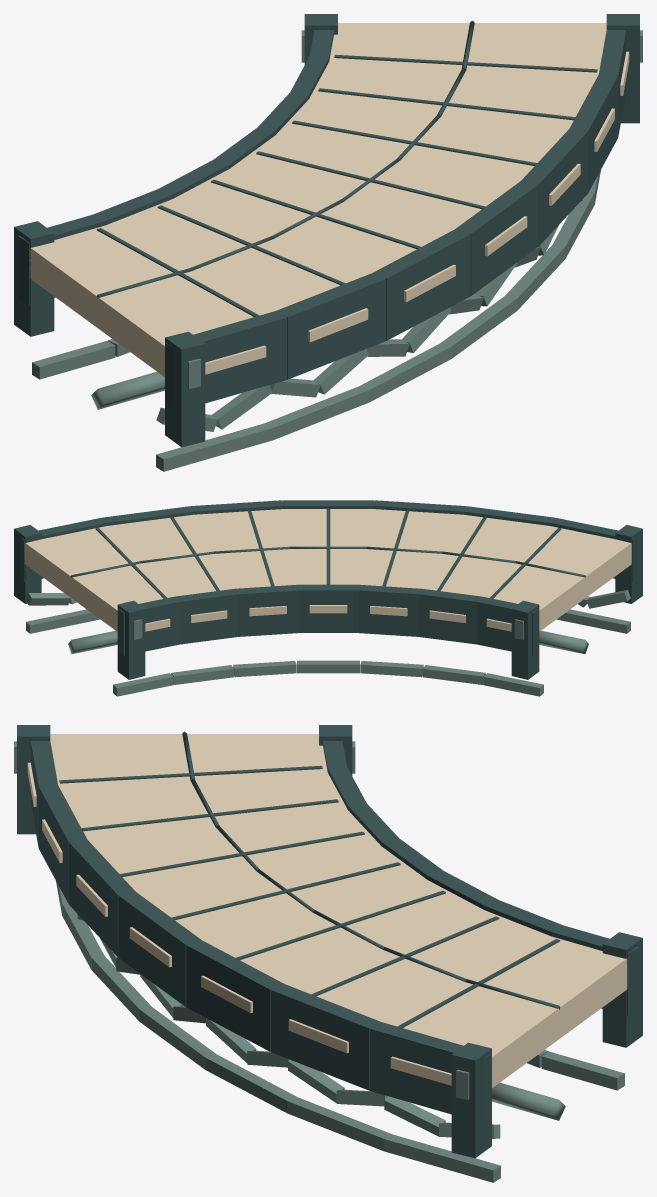
File: Curve_60_lab2.glb
3 renders of one model, top to bottom at view 1: azimuth 30°, elevation 25°; view 2: azimuth 150°, elevation 25°; view 3: azimuth 270°, elevation 25°, orthographic. The views are drawn at different scales.
Visible parts, largest first — view 1: Curve_60; view 2: Curve_60; view 3: Curve_60.
Part boxes in pixels (<box>): Curve_60: <box>14,14,642,471</box>; Curve_60: <box>14,500,642,696</box>; Curve_60: <box>14,725,642,1182</box>.
Size of the model in its own units: 8.12 by 1.52 by 6.42.
